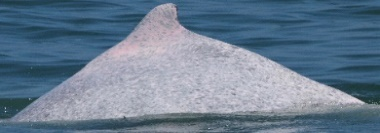fin: (13, 2, 375, 127)
